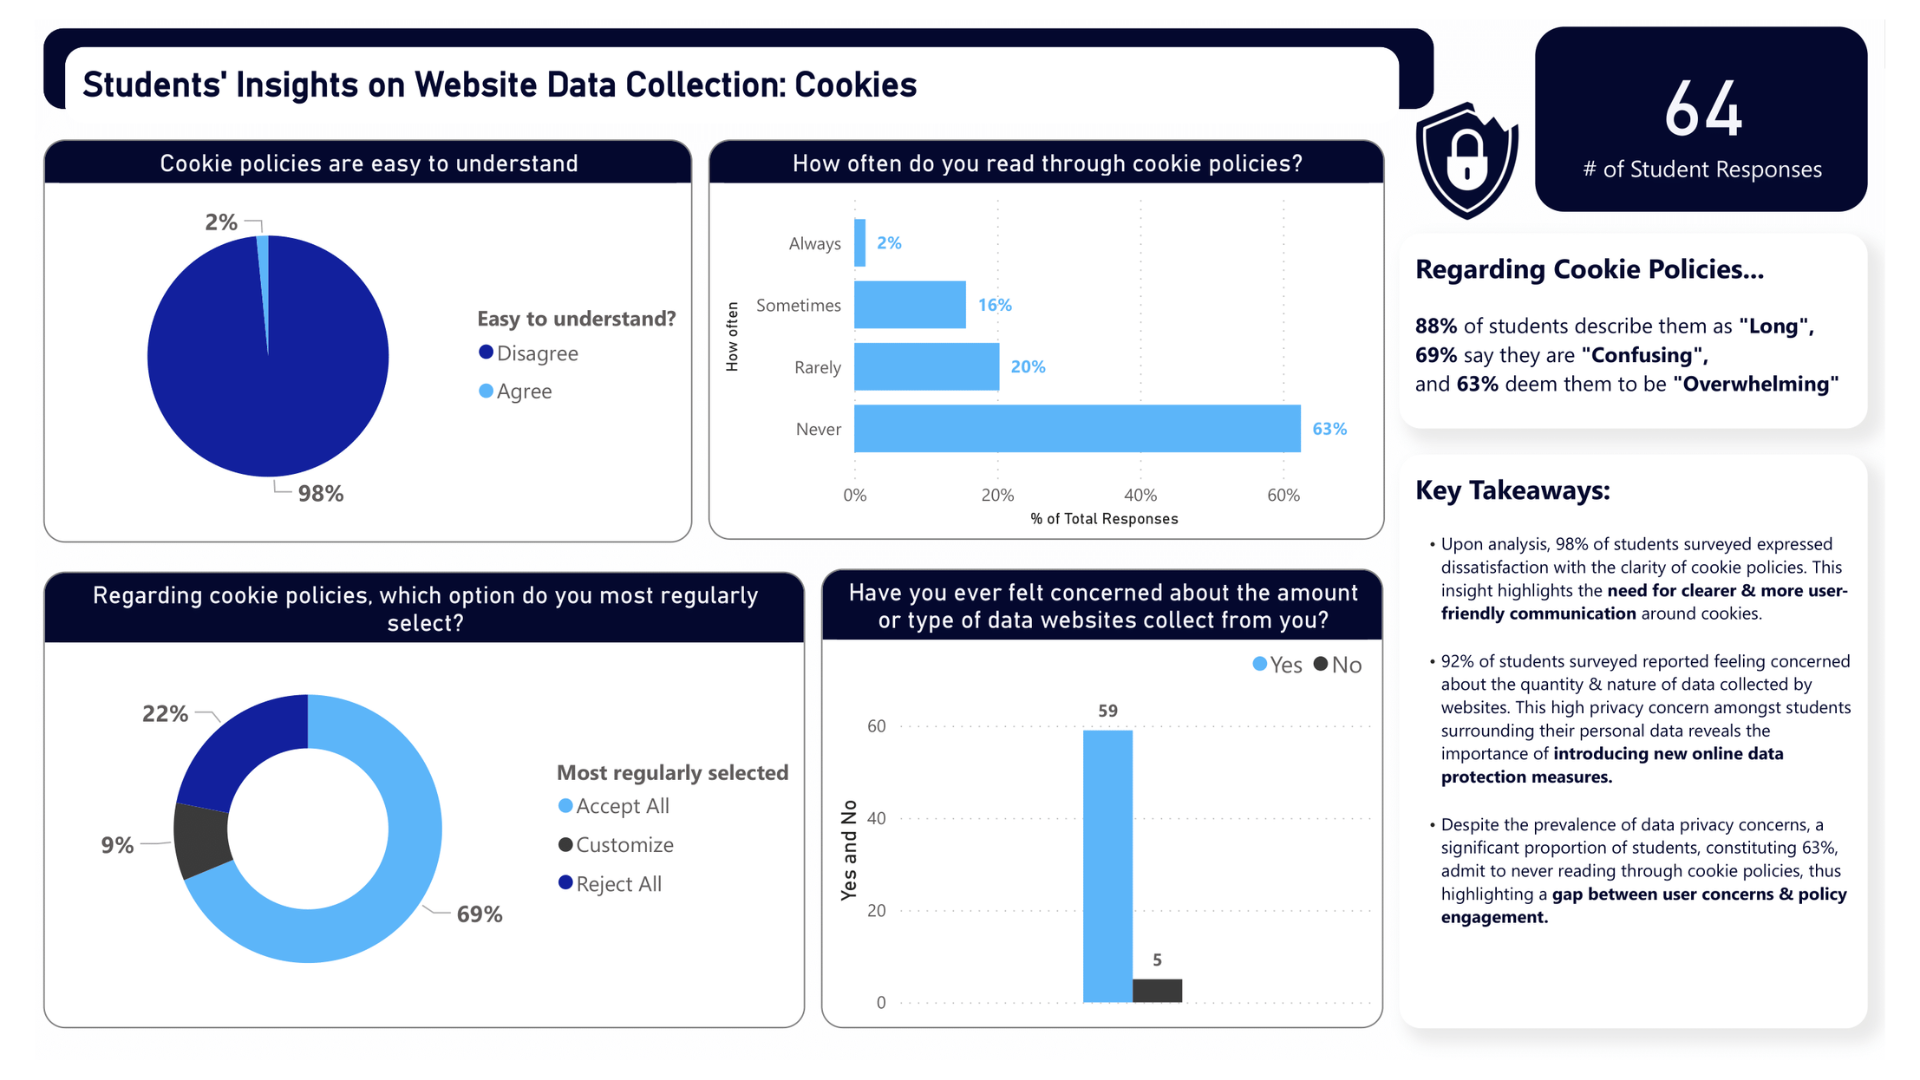

The page's visual inventory and layout, read from the dashboard file:
{"tool":"powerbi","page":{"name":"Cookie Questions","canvas":[1280,720],"ordinal":0},"visuals":[{"type":"barChart","title":"How often do you read through cookie policies?","fields":{"Category":["Form responses 1.How often read through policy?"],"Y":["Divide(Count(Form responses 1.Response No.), ScopedEval(Count(Form responses 1.Response No.), []))"]},"box":[466,83,467.9,277.4],"z":0},{"type":"donutChart","title":"Regarding cookie policies, which option do you most regularly select?","fields":{"Category":["Form responses 1.Most likely to select?"],"Y":["Count(Form responses 1.Response No.)"]},"box":[6.1,381.8,527.3,316.7],"z":1000},{"type":"pieChart","title":"Cookie policies are easy to understand","fields":{"Category":["Form responses 1.Policies easy to understand"],"Y":["Count(Form responses 1.Response No.)"]},"box":[5.7,83,449.1,279.2],"z":2000},{"type":"card","fields":{"Values":["Count(Form responses 1.Response No.)"]},"box":[1037.9,5.3,230,128.2],"z":3000},{"type":"textbox","box":[943.9,148.4,324,134.3],"z":4000},{"type":"shape","box":[6,5.7,961.7,56.7],"z":5000},{"type":"shape","box":[21,19,923.3,53.3],"z":6000},{"type":"textbox","box":[21.7,25.9,692.9,46.4],"z":7000},{"type":"clusteredColumnChart","title":"Have you ever felt concerned about the amount or type of data websites collect from you?","fields":{"Y":["Form responses 1.Count(Yes)","Form responses 1.Count(No)"]},"box":[543.9,380.3,389.4,318.2],"z":8000},{"type":"textbox","box":[943.9,301.2,324,396.9],"z":9000},{"type":"image","box":[943.6,45.5,94.5,105.5],"z":10000}]}

Visuals, with their boxes in screenshot pixels (x1, y1, x2, y2), scaled from the page's 1280x720 canvas onto the 1920x1080 screenshot:
"How often do you read through cookie policies?" barChart: (x1=699, y1=124, x2=1401, y2=541)
"Regarding cookie policies, which option do you most regularly select?" donutChart: (x1=9, y1=573, x2=800, y2=1048)
"Cookie policies are easy to understand" pieChart: (x1=9, y1=124, x2=682, y2=543)
card - Count(Form responses 1.Response No.): (x1=1557, y1=8, x2=1902, y2=200)
textbox: (x1=1416, y1=223, x2=1902, y2=424)
shape: (x1=9, y1=9, x2=1452, y2=94)
shape: (x1=32, y1=28, x2=1416, y2=108)
textbox: (x1=33, y1=39, x2=1072, y2=108)
"Have you ever felt concerned about the amount or type of data websites collect from you?" clusteredColumnChart: (x1=816, y1=570, x2=1400, y2=1048)
textbox: (x1=1416, y1=452, x2=1902, y2=1047)
image: (x1=1415, y1=68, x2=1557, y2=226)
